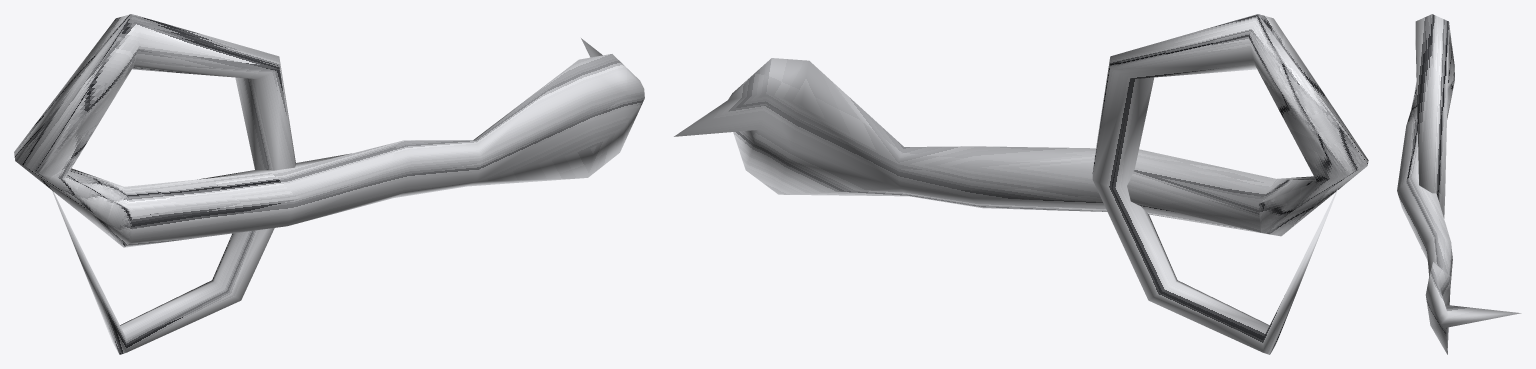
File: snake_000098.obj
3 renders of one model, left to right at view 1: azimuth 30°, elevation 25°; view 2: azimuth 150°, elevation 25°; view 3: azimuth 270°, elevation 25°, orthographic. The views are drawn at different scales.
Visible parts, largest first — view 1: Cylinder; view 2: Cylinder; view 3: Cylinder.
Boxes of the visible parts, box(x1,y1,x2,y2) form: Cylinder: box(14, 14, 644, 354); Cylinder: box(674, 14, 1368, 354); Cylinder: box(1397, 14, 1521, 354).
Size of the model in its own units: 4.78 by 2.44 by 1.23.
